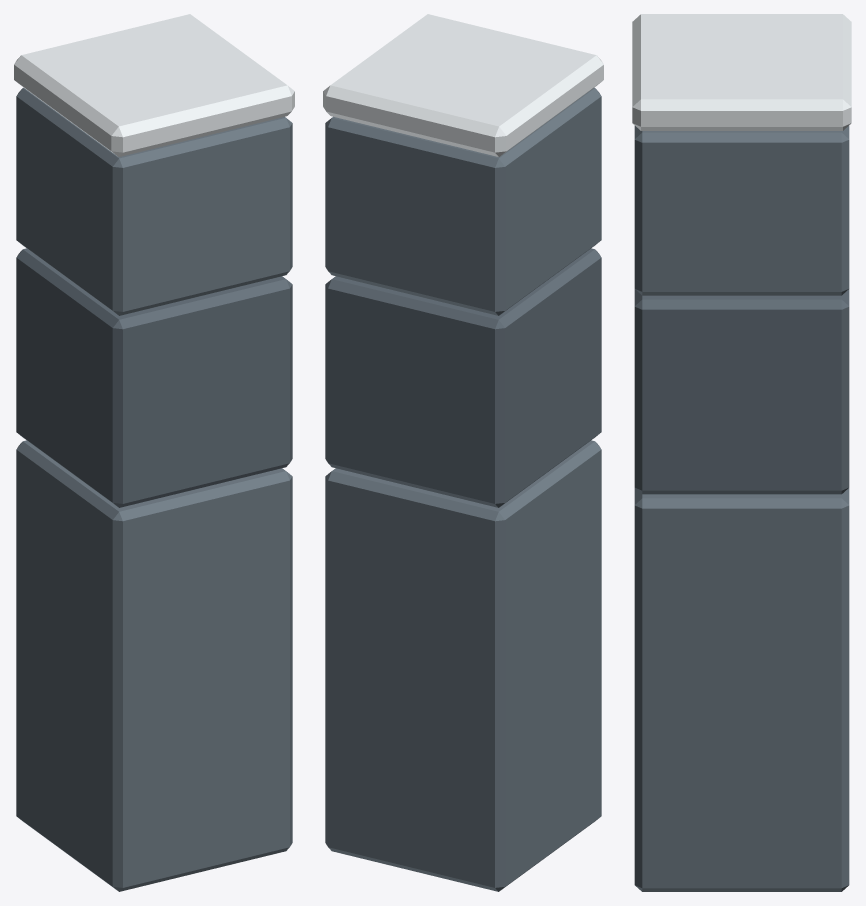
The model's file is column-rime-3.glb.
The picture shows the model from 3 angles, left to right: view 1: azimuth 30°, elevation 25°; view 2: azimuth 150°, elevation 25°; view 3: azimuth 270°, elevation 25°; orthographic projection. The views are drawn at different scales.
Parts seen in each view (by area): view 1: column-rime-3; view 2: column-rime-3; view 3: column-rime-3.
Part boxes in pixels (x1,y1,x2,y2): column-rime-3: [14, 14, 294, 891]; column-rime-3: [323, 14, 603, 891]; column-rime-3: [632, 14, 851, 891].
Bounding box in the file's own units: 1 × 3.99 × 1.
